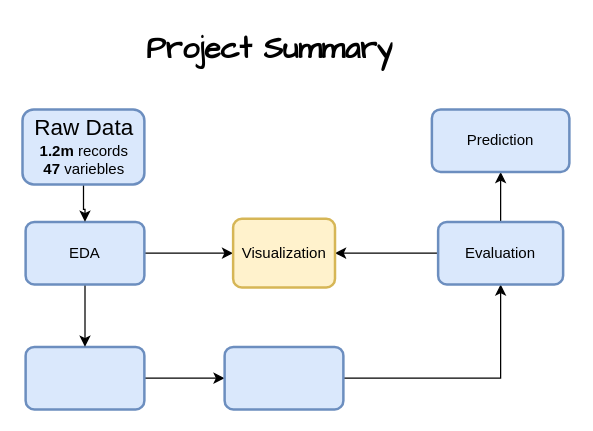
Some shapes in this 593 by 431 pixel diagram are drawn without their labels. Here are the shapes that lost their labels. From the top down, the centre of each, then its label:
(x=84, y=377): Feature engineer
(x=283, y=377): Model Selection/ Training
